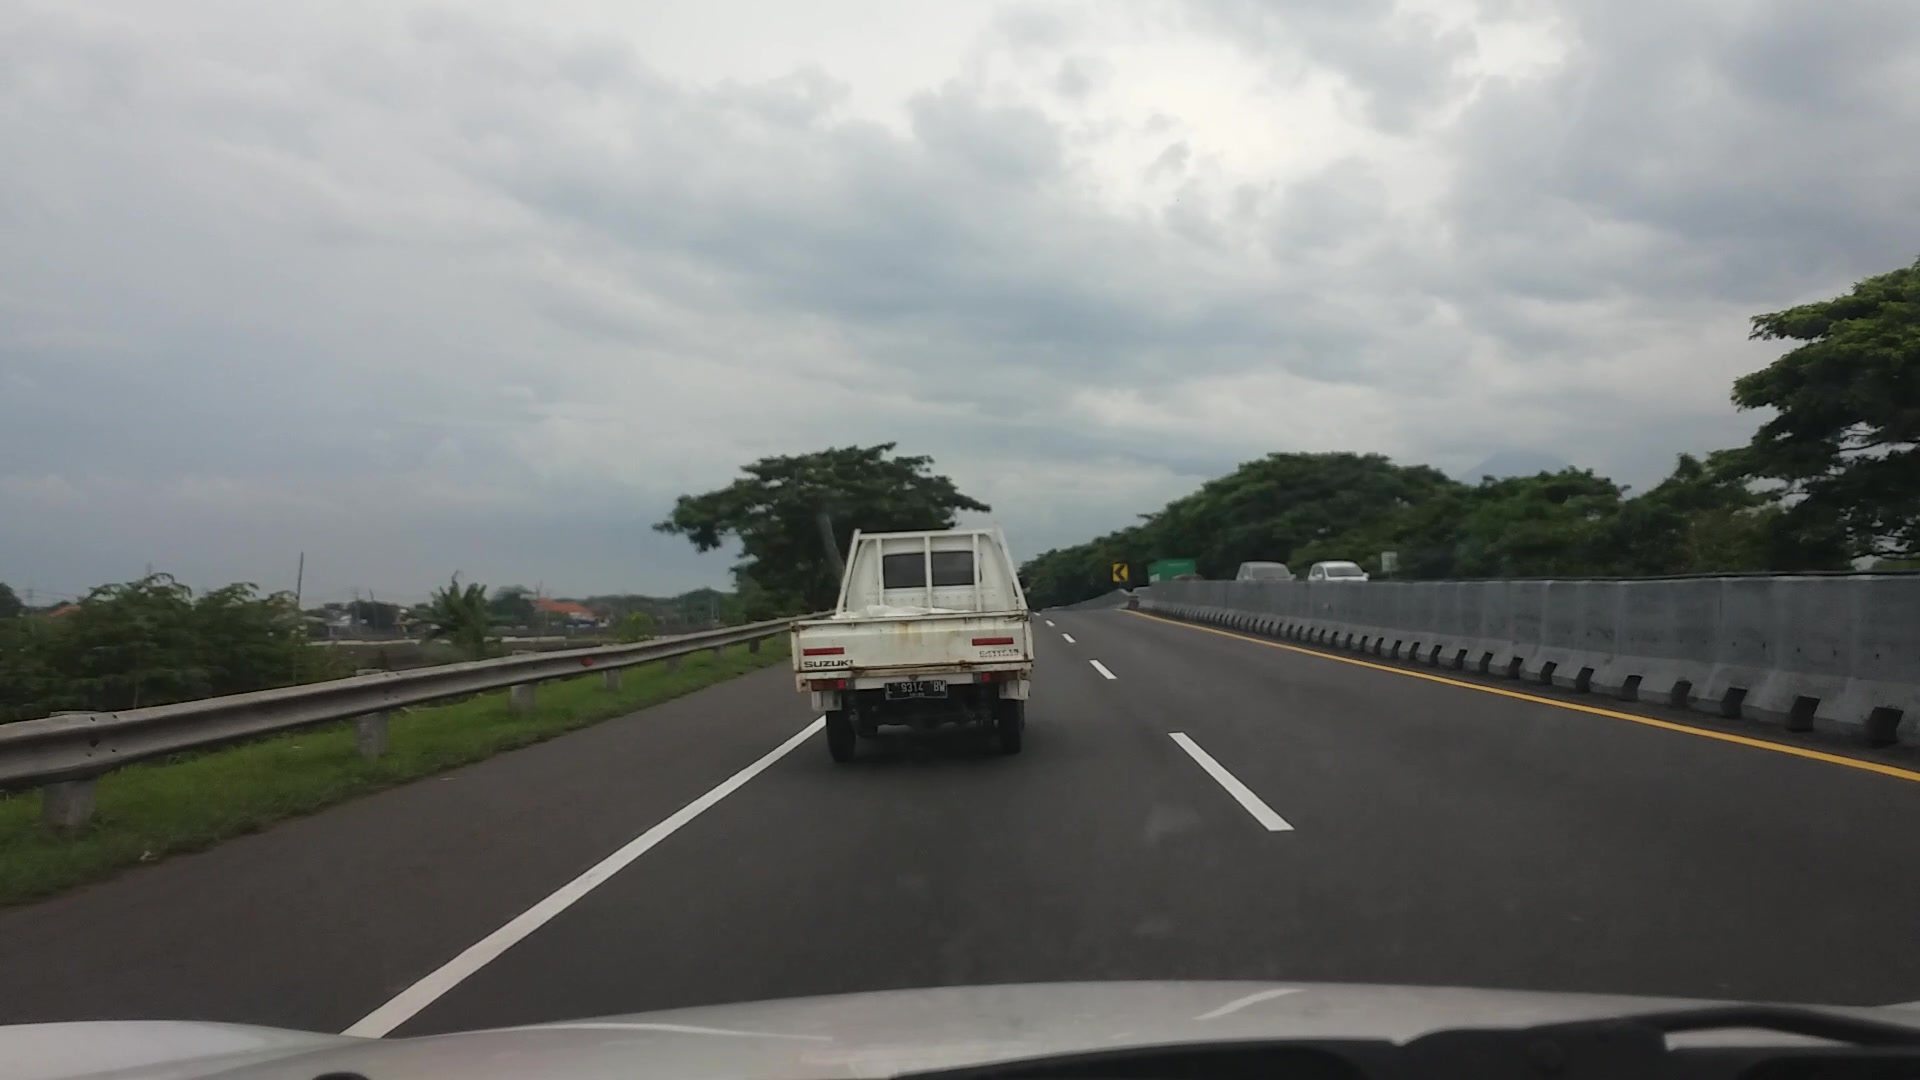plate_positive: (884, 680, 947, 699)
